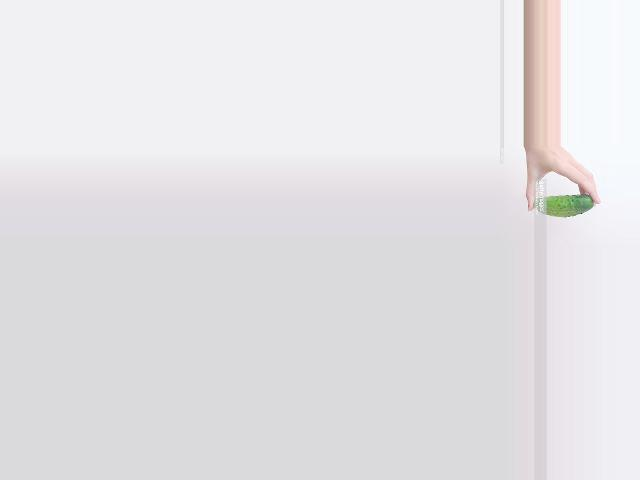cucumber: (533, 195, 593, 218)
